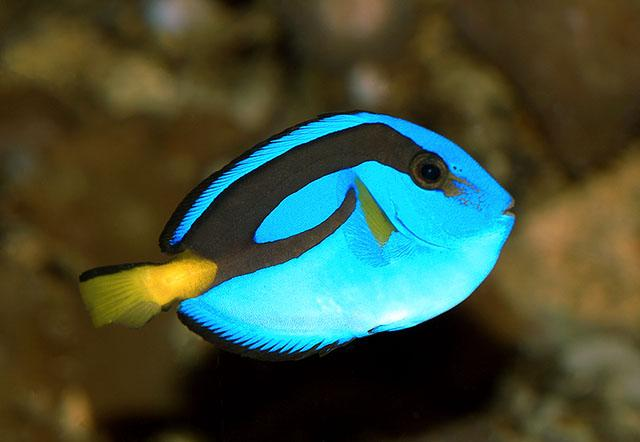Mulut: (481, 164, 551, 264)
Sirip Anal: (162, 292, 354, 376)
Sirip Dada: (316, 152, 408, 276)
Sirip Ekor: (36, 236, 200, 356)
Sirip Perut: (345, 300, 461, 356)
Sirip Punggung: (150, 94, 384, 260)
